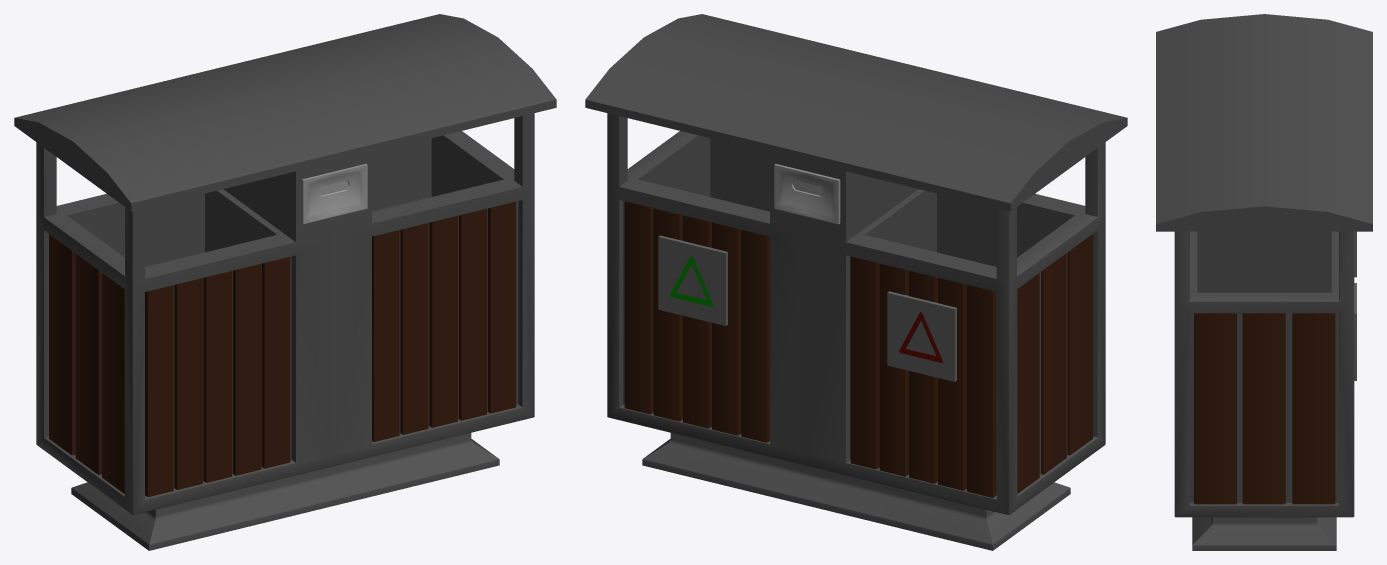
File: GarbageCan.fbx
3 views of the same model, side by side, from view 1: azimuth 30°, elevation 25°; view 2: azimuth 150°, elevation 25°; view 3: azimuth 270°, elevation 25° (orthographic). The views are drawn at different scales.
Visible parts, largest first — view 1: GarbageCan; view 2: GarbageCan; view 3: GarbageCan.
Boxes of the visible parts, x1,y1,x2,y2 form: GarbageCan: (14,14,556,550); GarbageCan: (585,14,1127,550); GarbageCan: (1156,14,1372,550).
Bounding box in the file's own units: 0.7013 × 0.6148 × 0.3339.
